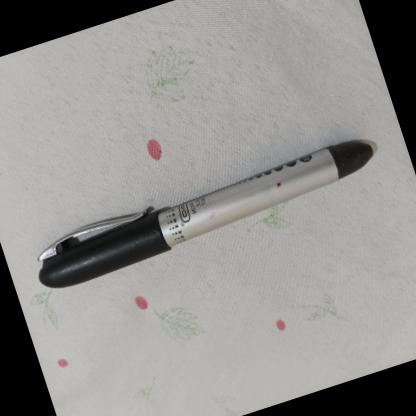pencil: (43, 135, 380, 288)
